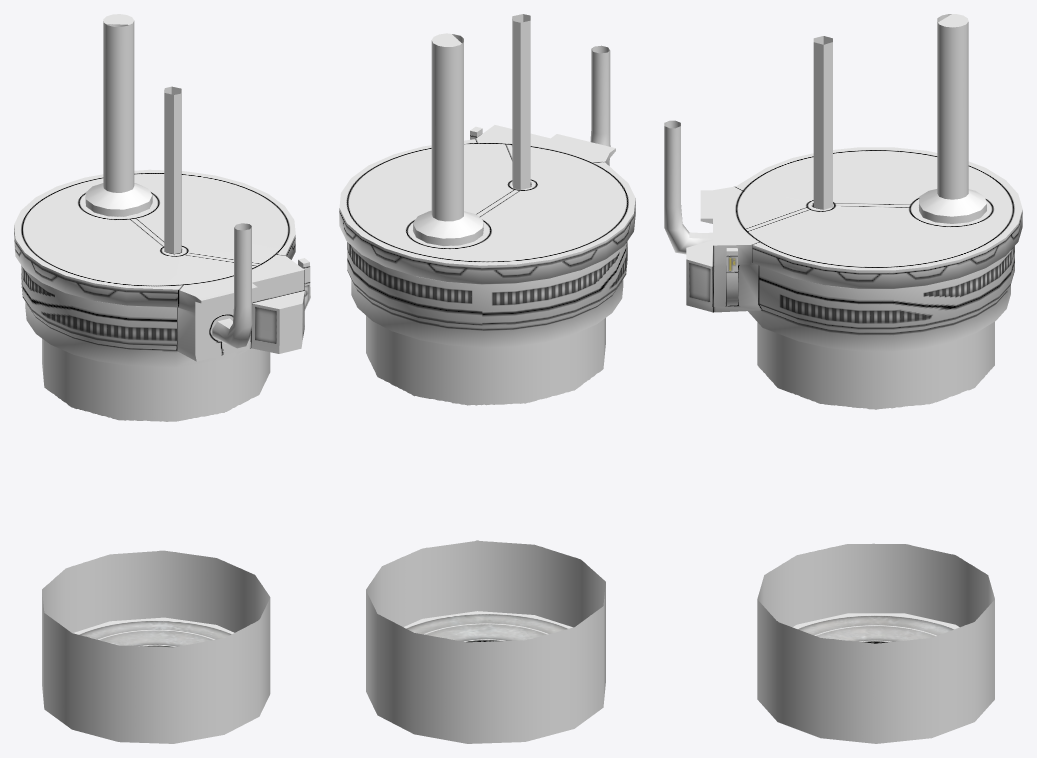
File: Obj_BioTube_2.FBX
The picture shows the model from 3 angles, left to right: view 1: azimuth 30°, elevation 25°; view 2: azimuth 150°, elevation 25°; view 3: azimuth 270°, elevation 25°; orthographic projection. The views are drawn at different scales.
Parts seen in each view (by area): view 1: BioTube_Top, BioTube_Tube, BioTube_Floor; view 2: BioTube_Top, BioTube_Tube, BioTube_Floor; view 3: BioTube_Top, BioTube_Tube, BioTube_Floor.
Boxes of the visible parts, left/top/right/bottom form: BioTube_Top: left=14, top=14, right=310, bottom=367; BioTube_Tube: left=42, top=338, right=270, bottom=743; BioTube_Floor: left=73, top=617, right=234, bottom=647; BioTube_Top: left=339, top=14, right=635, bottom=347; BioTube_Tube: left=366, top=315, right=605, bottom=743; BioTube_Floor: left=403, top=611, right=573, bottom=642; BioTube_Top: left=664, top=14, right=1022, bottom=351; BioTube_Tube: left=757, top=321, right=994, bottom=743; BioTube_Floor: left=792, top=613, right=959, bottom=643.
Size of the model in its own units: 0.9572 by 2.44 by 1.18.
